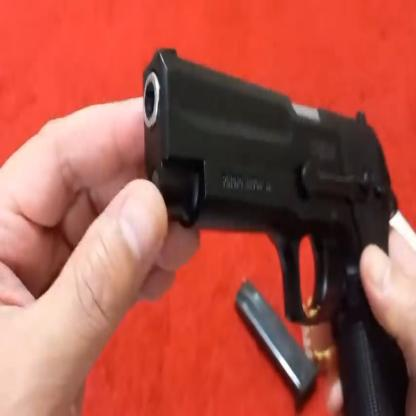handgun: (140, 33, 408, 413)
